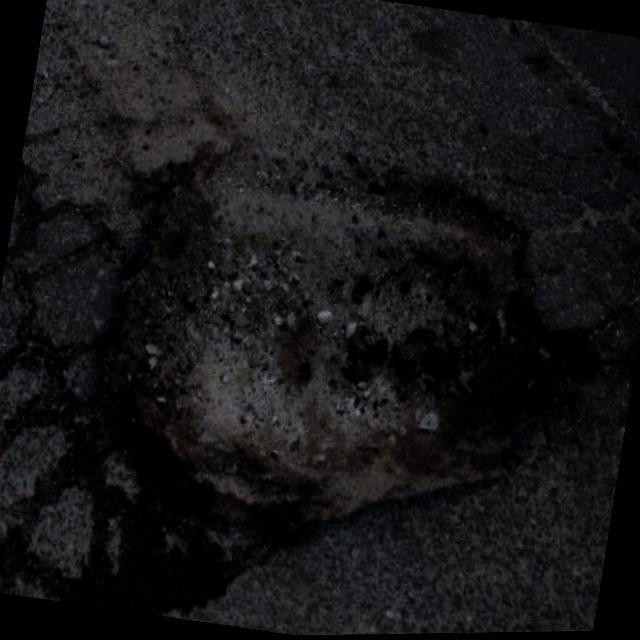Pothole: (117, 144, 589, 541)
